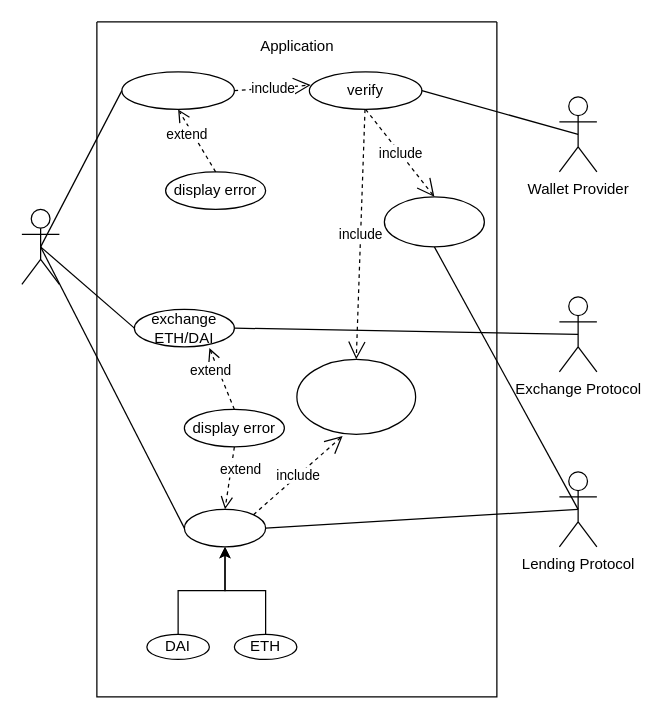
Image size: 663x719. Some labels were removed from this diagram. Here are the shapes that lost their labels. From the top down, the box of each, then its label:
(121, 71, 234, 109): connect wallet
(383, 196, 484, 247): display interest rate
(21, 208, 59, 284): User
(296, 358, 416, 434): display: funds, deposit funds, earnings
(183, 508, 266, 547): deposit
